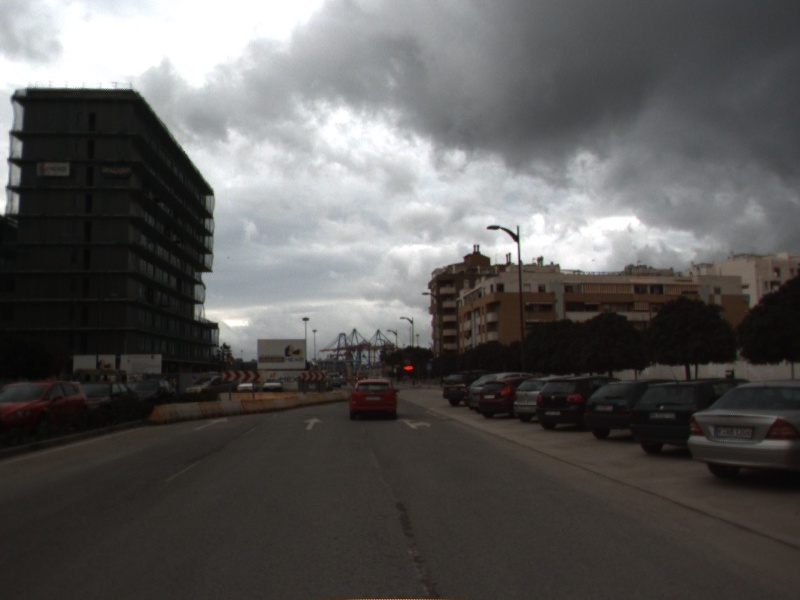STRAIGHT: (192, 415, 229, 432), (302, 415, 325, 432)
STRAIGHT_RIGHT: (396, 415, 433, 430)
